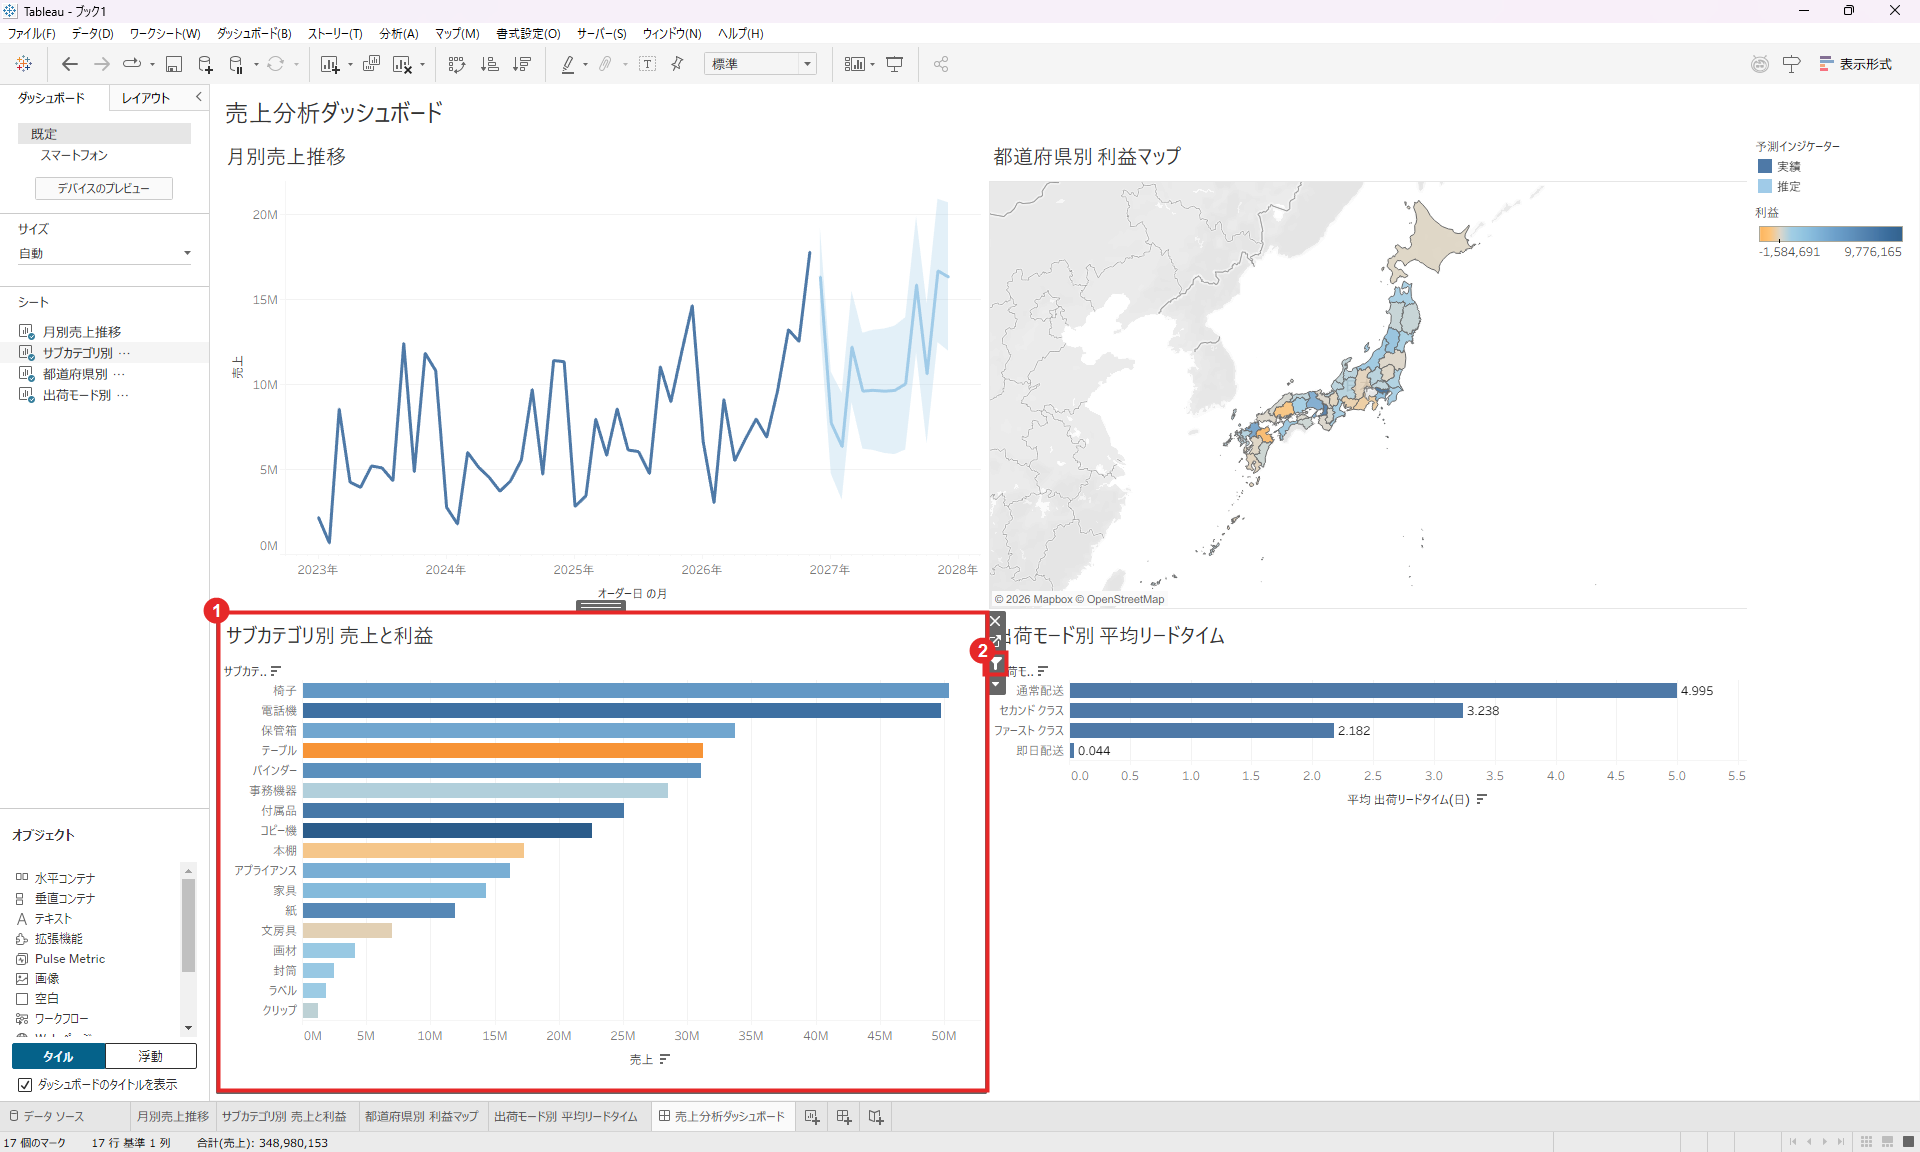

This screenshot's page, from the dashboard's own definition file:
{"tool":"tableau","page":{"name":"売上分析ダッシュボード","canvas":[1000,1000],"units":"permille","ordinal":0},"visuals":[{"type":"title","box":[4.7,7.9,990.6,41.3]},{"type":"worksheet","title":"月別売上推移","mark":"Automatic","rows":["売上"],"cols":["オーダー日"],"box":[4.7,49.2,448.5,471.5]},{"type":"worksheet","title":"都道府県別 利益マップ","mark":"Multipolygon","box":[453.2,49.2,448.5,471.5]},{"type":"legend","title":"月別売上推移","param":"[サンプル - スーパーストア].[none:Forecast Indicator:nk]","box":[901.7,49.2,93.6,65]},{"type":"legend","title":"都道府県別 利益マップ","param":"[サンプル - スーパーストア].[sum:利益:qk]","box":[901.7,114.2,93.6,64]},{"type":"worksheet","title":"サブカテゴリ別 売上と利益","mark":"Automatic","rows":["サブカテゴリ"],"cols":["売上"],"box":[4.7,520.7,448.5,471.5]},{"type":"worksheet","title":"出荷モード別 平均リードタイム","mark":"Automatic","rows":["出荷モード"],"cols":["Calculation_1357122600267776"],"box":[453.2,520.7,448.5,471.5]}]}

Visuals, with their boxes on the dashboard's canvas, which has no fixed pixel size, in thousandths of its width and height (x1, y1, x2, y2). These are canvas units, not pixel positions in the 1920x1152 screenshot, which may show the page scaled, cropped or inside an application window:
title: region(5, 8, 995, 49)
"月別売上推移" worksheet: region(5, 49, 453, 521)
"都道府県別 利益マップ" worksheet (Multipolygon marks): region(453, 49, 902, 521)
"月別売上推移" legend: region(902, 49, 995, 114)
"都道府県別 利益マップ" legend: region(902, 114, 995, 178)
"サブカテゴリ別 売上と利益" worksheet: region(5, 521, 453, 992)
"出荷モード別 平均リードタイム" worksheet: region(453, 521, 902, 992)
